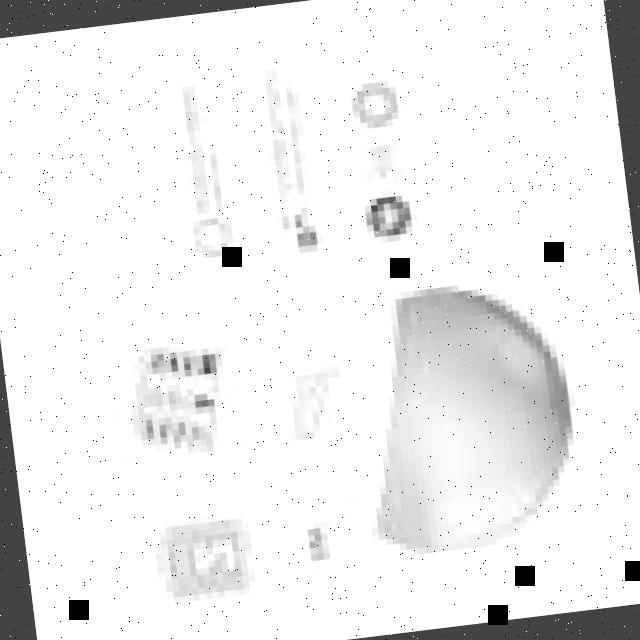light_bulb: (100, 254, 602, 612)
